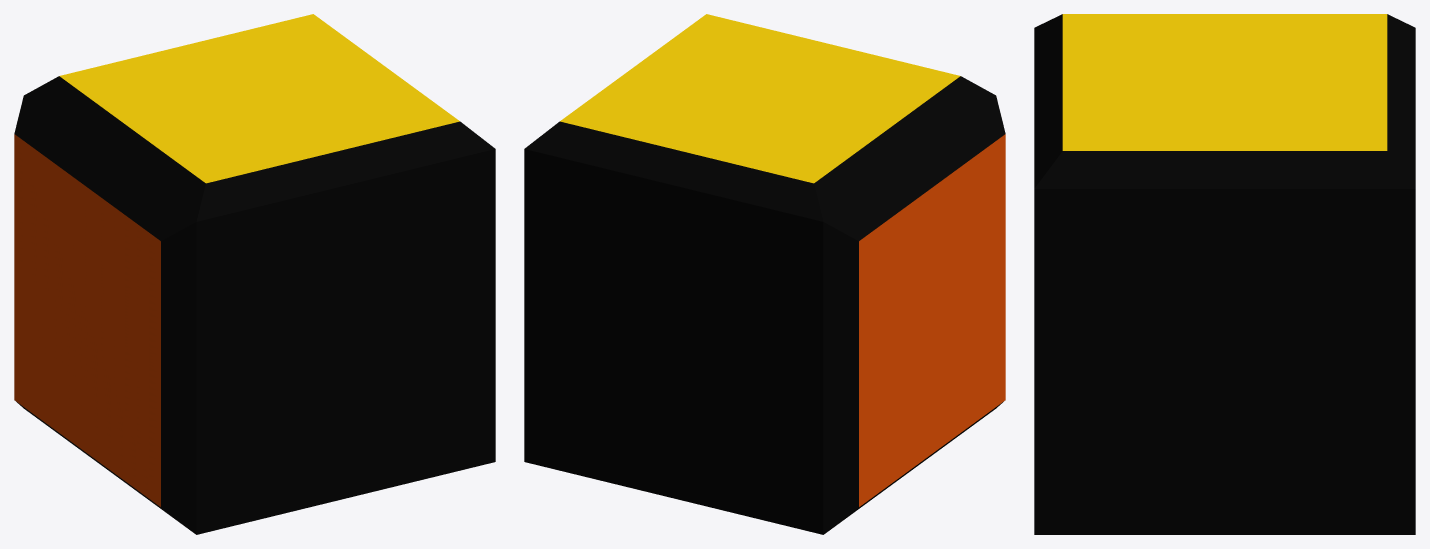
The model's file is rubiks_cube_10.glb.
3 views of the same model, side by side, from view 1: azimuth 30°, elevation 25°; view 2: azimuth 150°, elevation 25°; view 3: azimuth 270°, elevation 25° (orthographic). The views are drawn at different scales.
Parts seen in each view (by area): view 1: Cube10.001; view 2: Cube10.001; view 3: Cube10.001.
Part boxes in pixels (x1,y1,x2,y2): Cube10.001: (14, 14, 495, 534); Cube10.001: (524, 14, 1005, 534); Cube10.001: (1034, 14, 1415, 534).
Bounding box in the file's own units: 2.15 × 2.15 × 2.
